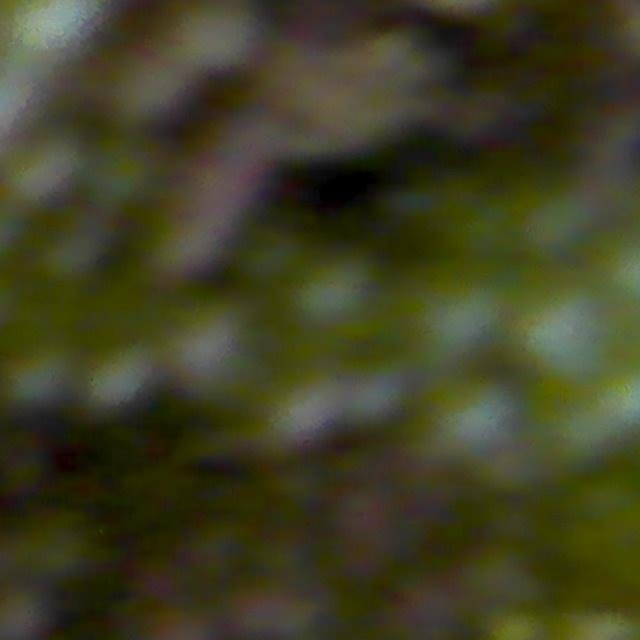SeaGrape: (160, 303, 262, 412), (518, 291, 614, 387), (0, 0, 112, 73), (171, 0, 266, 82), (103, 51, 193, 136), (3, 130, 89, 216), (410, 283, 504, 356), (425, 390, 514, 464), (33, 216, 115, 294), (284, 253, 372, 325), (0, 337, 77, 419), (518, 184, 598, 262), (266, 364, 336, 445), (86, 139, 162, 213), (232, 590, 325, 640), (84, 346, 150, 413), (343, 361, 410, 417), (0, 586, 49, 640)
